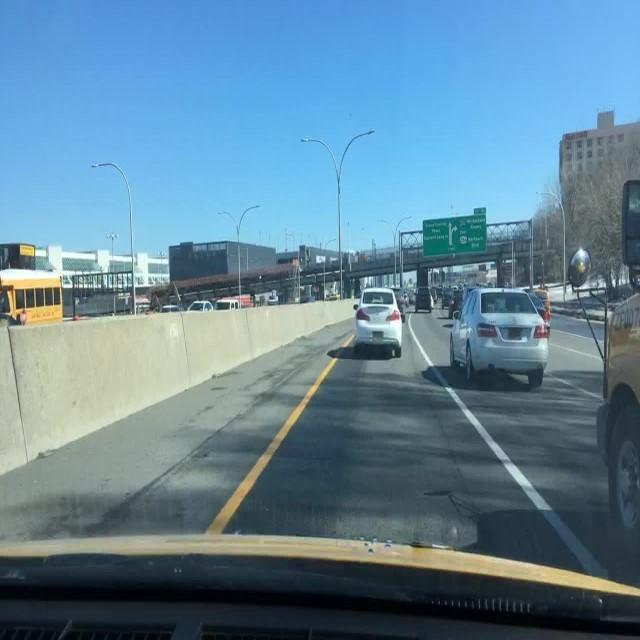normal: (330, 273, 579, 402)
